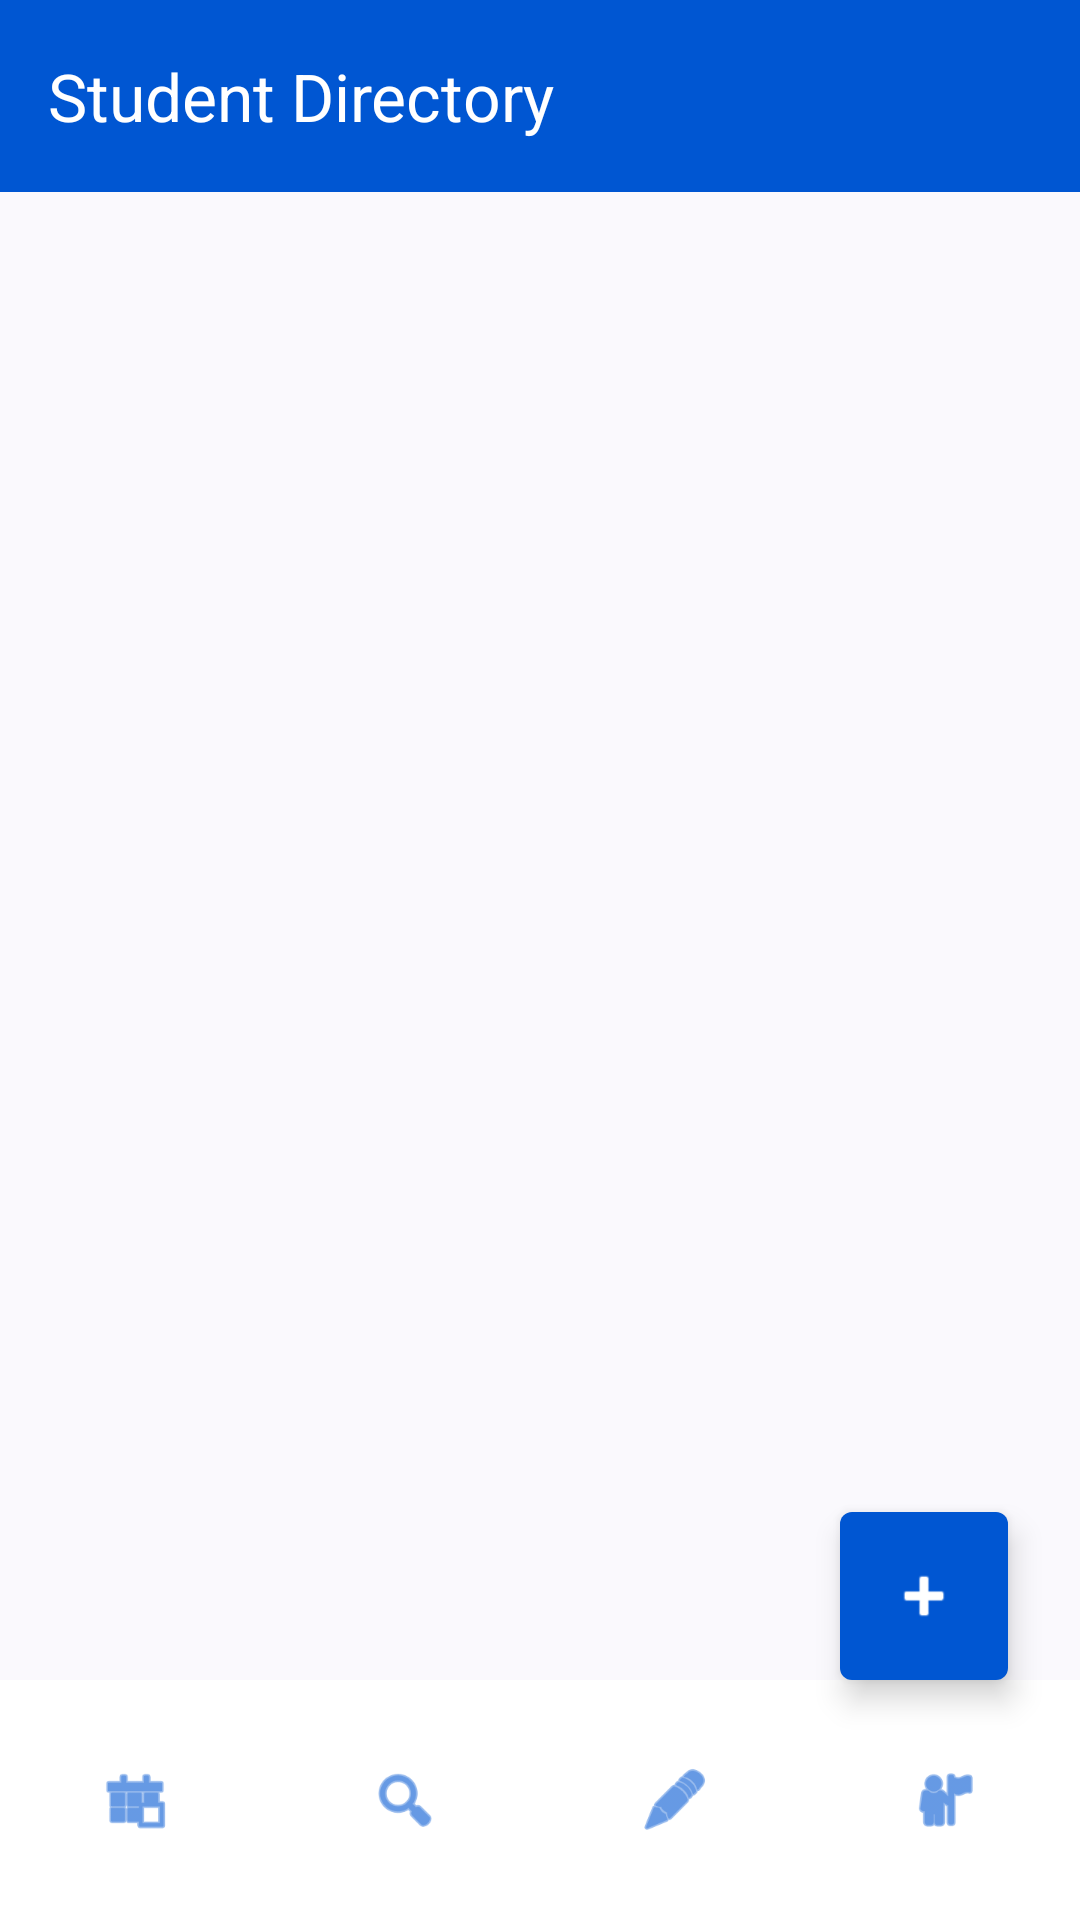

Locate icon controls on the screen. Image size 1080px x 1920px, boxes as (x1, y1, x2, y2).
add: (840, 1512, 1008, 1680)
